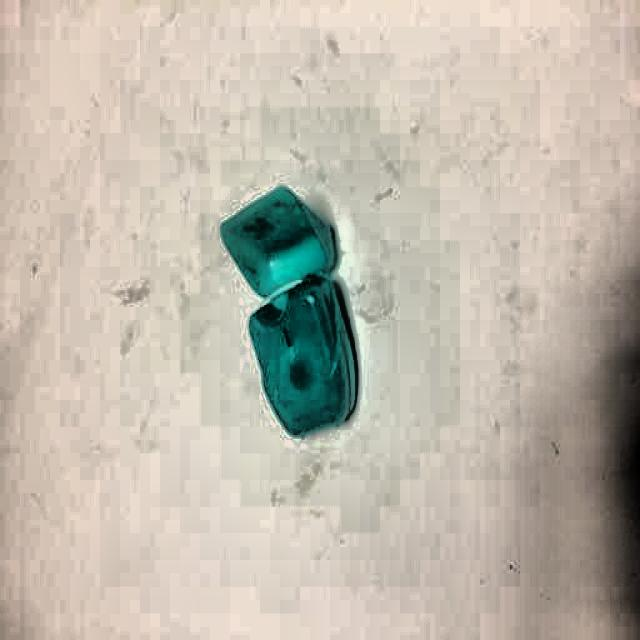trash: (218, 177, 357, 437)
